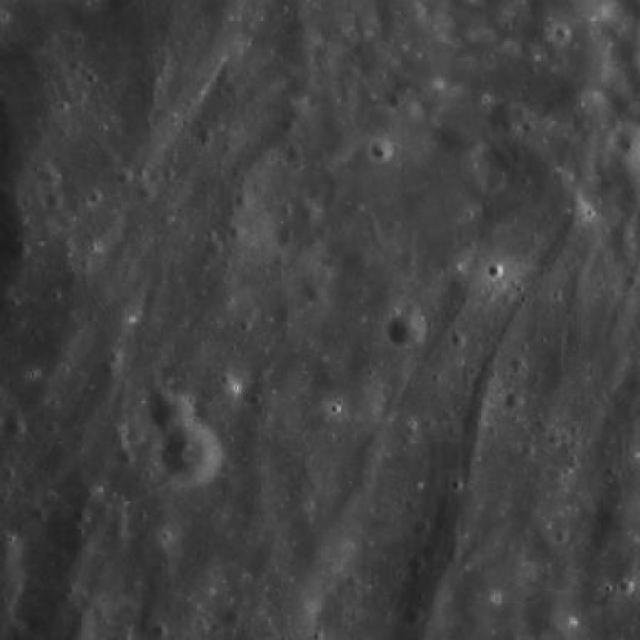crater: (162, 423, 222, 483), (144, 383, 190, 429), (390, 312, 427, 348), (0, 532, 26, 562), (64, 606, 90, 632), (124, 418, 148, 442), (373, 138, 396, 162), (304, 281, 328, 304), (5, 415, 27, 437), (10, 242, 32, 264), (300, 202, 322, 224), (133, 182, 155, 204), (276, 112, 296, 132), (154, 388, 174, 407), (74, 506, 94, 525), (118, 448, 137, 466), (118, 168, 136, 186), (205, 238, 222, 256), (44, 168, 61, 186), (235, 194, 252, 211), (410, 556, 428, 572), (416, 518, 432, 536), (48, 192, 64, 210), (508, 393, 524, 410), (620, 579, 636, 595), (198, 128, 214, 144), (491, 263, 506, 279), (410, 610, 424, 626), (0, 0, 3, 3)
